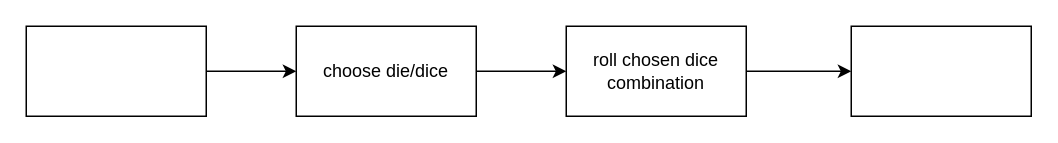
The diagram is 1058 pixels wide and 143 high, and some of its shapes have lost their labels. The centre of each missing label's shape, as x and y in pixels:
return die roll result: the point at 940,70
something wants to roll a die: the point at 115,70
